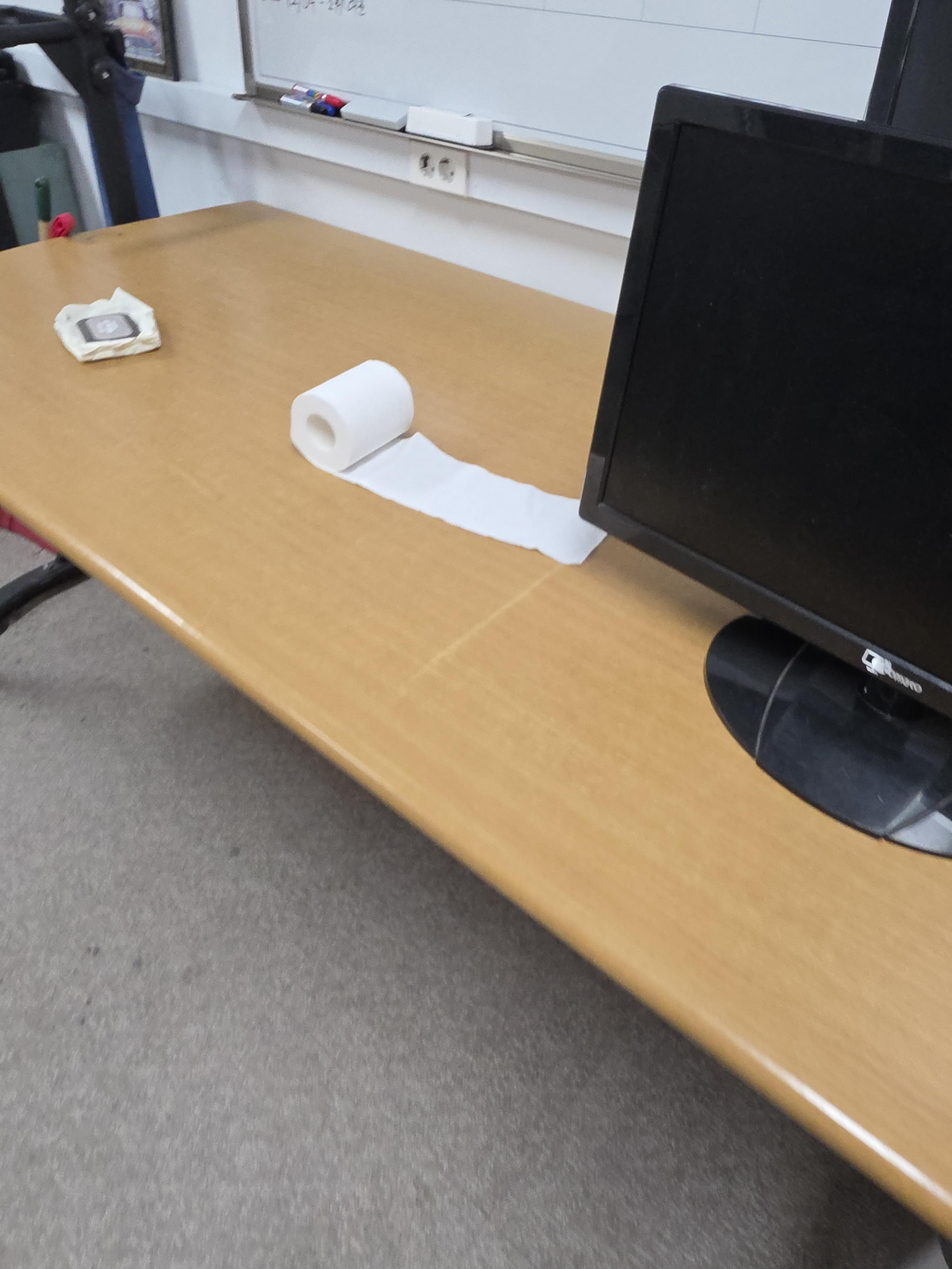tissue: (289, 359, 607, 565)
